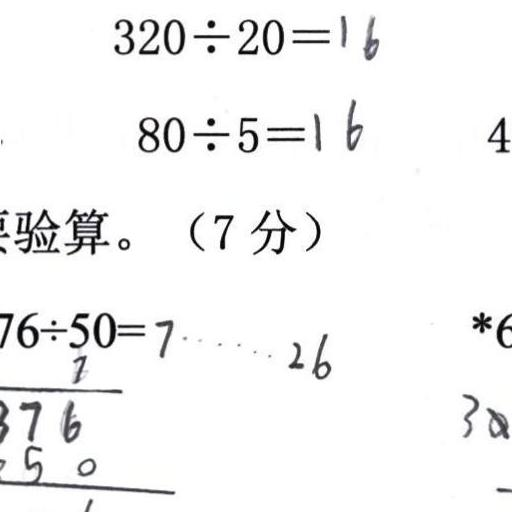ans: (150, 315, 332, 380), (305, 94, 362, 152), (335, 8, 381, 61)
